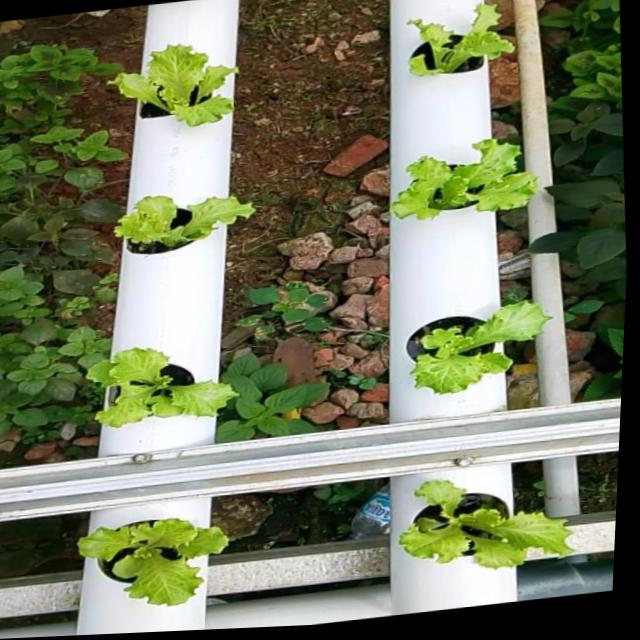Baby: (83, 497, 234, 603), (406, 473, 581, 562), (405, 301, 551, 395), (90, 345, 244, 425), (389, 137, 538, 219), (105, 44, 236, 126), (112, 196, 254, 255), (406, 3, 513, 76)
